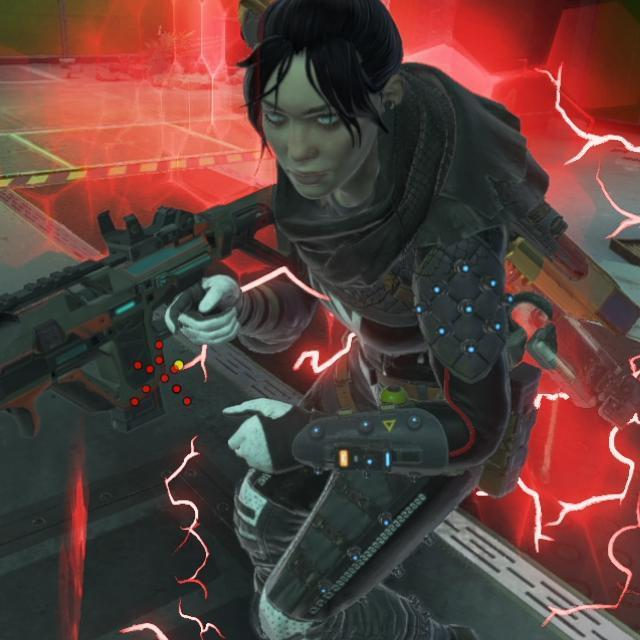avatar: (225, 0, 545, 640)
